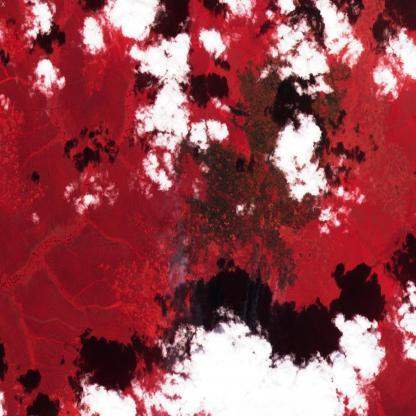fire: (165, 232, 194, 282), (274, 261, 291, 299), (243, 268, 264, 298)
